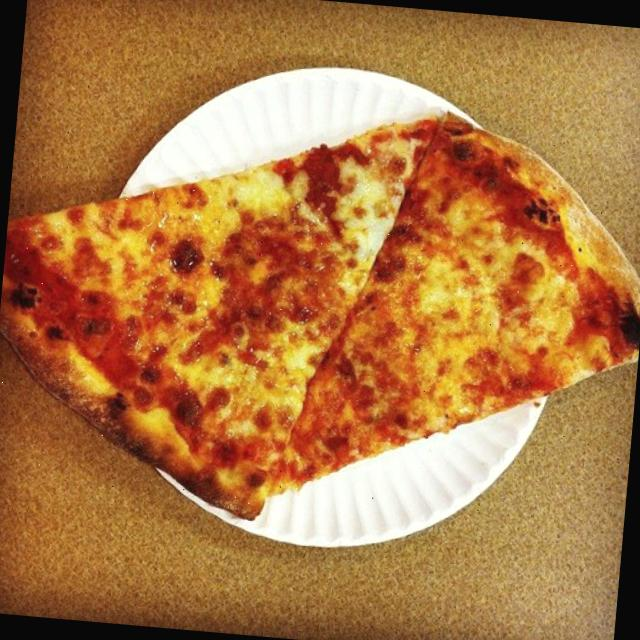pizza: (0, 117, 640, 517)
